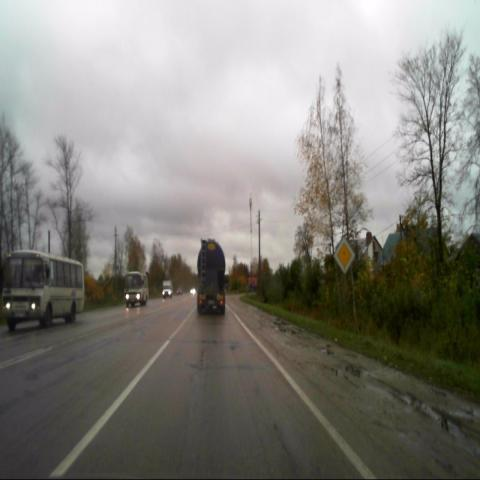2_1: (332, 236, 355, 275)
